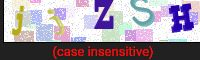H: (166, 1, 198, 36)
S: (124, 1, 160, 33)
Z: (89, 1, 119, 36)
j: (41, 6, 72, 38), (8, 3, 30, 41)
